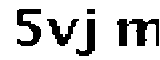5: (9, 5, 46, 50)
j: (76, 4, 104, 60)
m: (111, 13, 160, 52)
v: (46, 15, 79, 48)
